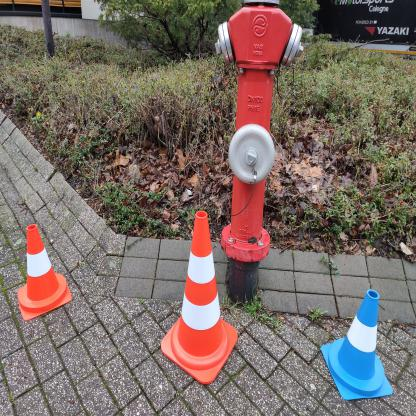Cones_big: (154, 194, 254, 396)
Cones_small_blue: (316, 276, 399, 403)
Cones_small_orange: (13, 218, 78, 332)
